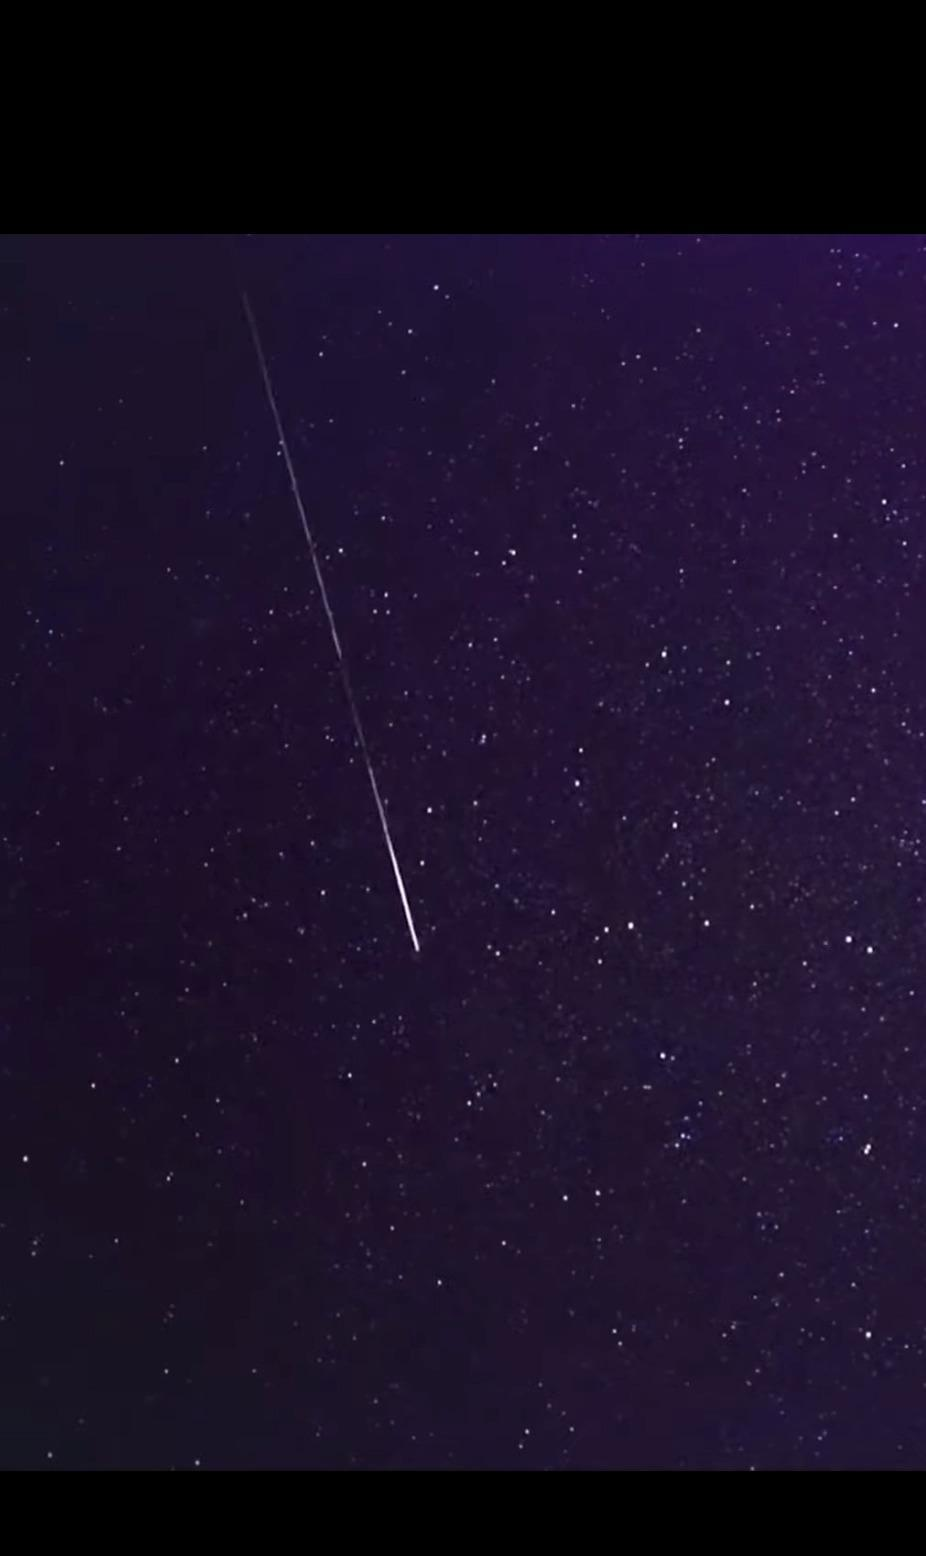meteorite: (284, 509, 451, 981)
